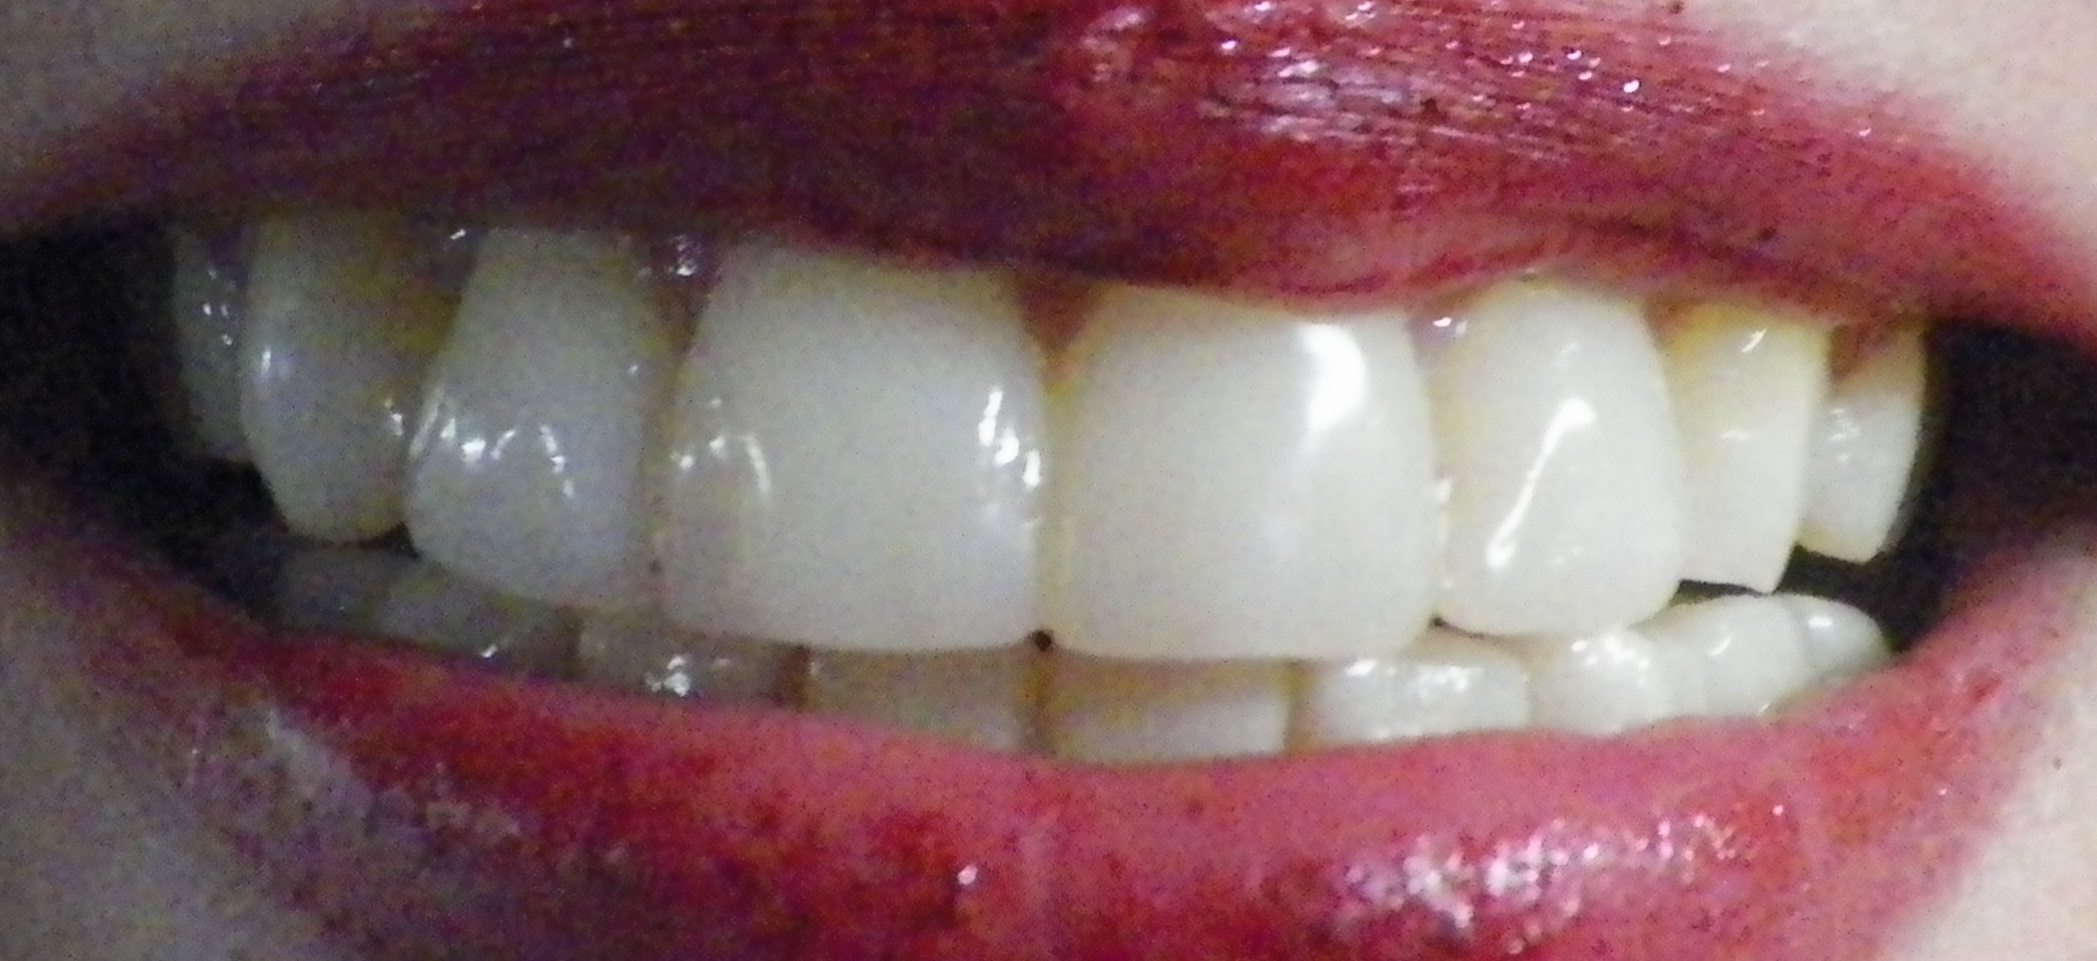boca: (189, 192, 1923, 769)
